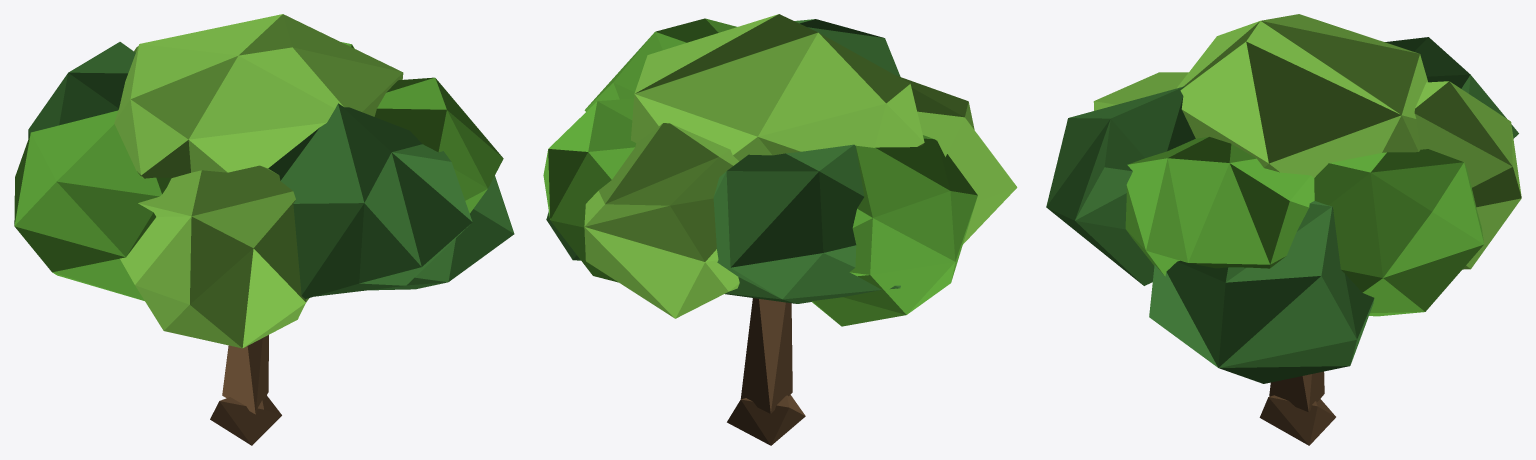
The model's file is tree_oak_2_lod1.glb.
The picture shows the model from 3 angles, left to right: view 1: azimuth 30°, elevation 25°; view 2: azimuth 150°, elevation 25°; view 3: azimuth 270°, elevation 25°; orthographic projection.
Parts seen in each view (by area): view 1: tree_oak_2_lod1; view 2: tree_oak_2_lod1; view 3: tree_oak_2_lod1.
Boxes of the visible parts, x1=… form: tree_oak_2_lod1: x1=14, y1=14, x2=514, y2=445; tree_oak_2_lod1: x1=543, y1=14, x2=1017, y2=445; tree_oak_2_lod1: x1=1046, y1=14, x2=1521, y2=445.
Size of the model in its own units: 8.28 by 7.19 by 7.86.
